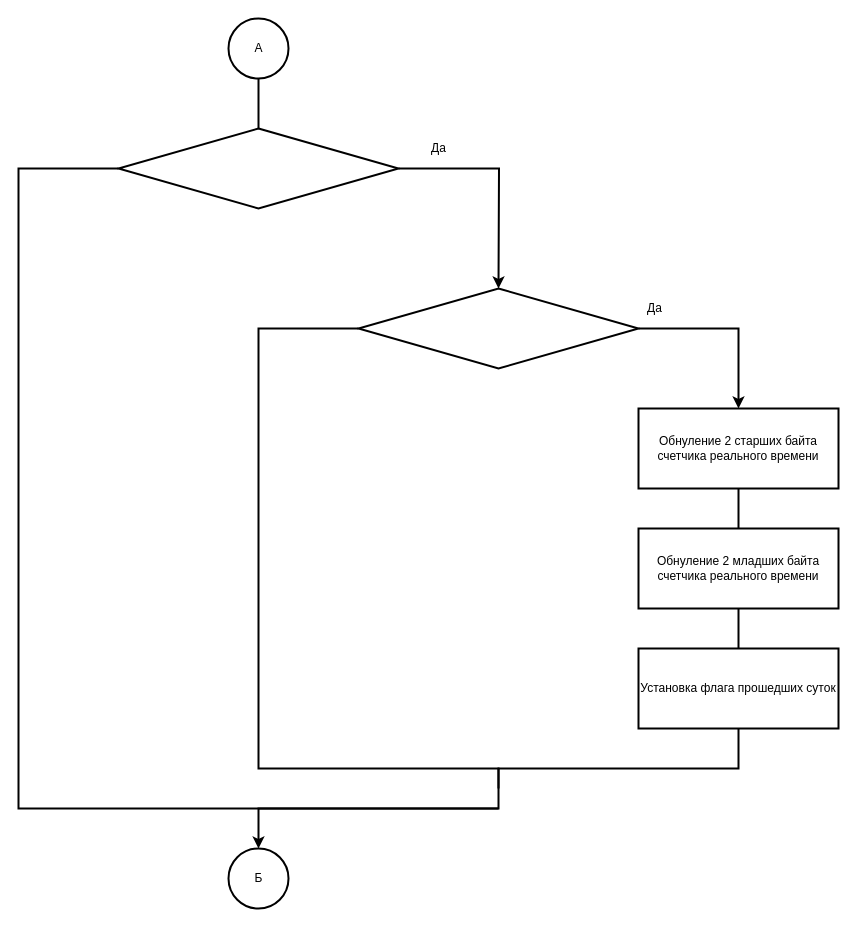
This 856x926 diagram has some shape labels left out. Each missing label, with the box of its shape:
2 младших байта счетчика = 176?: (357, 287, 639, 369)
2 старших байта счетчика = 24?: (117, 127, 399, 209)
